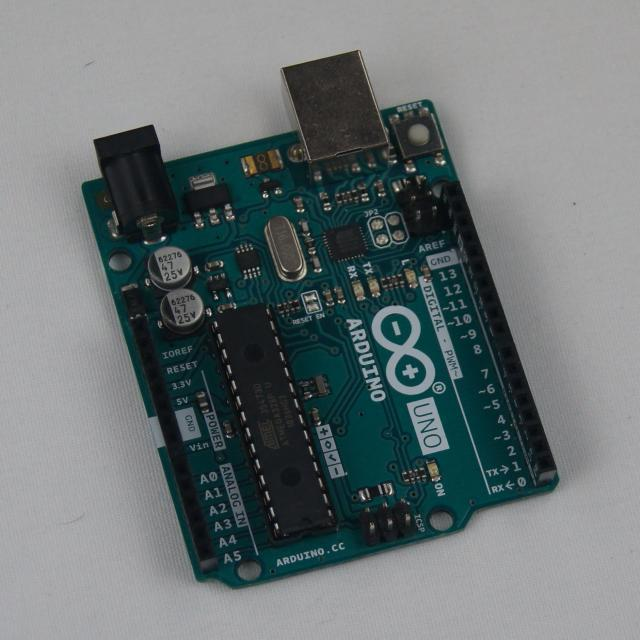Arduino Uno -Green-: (84, 52, 559, 586)
